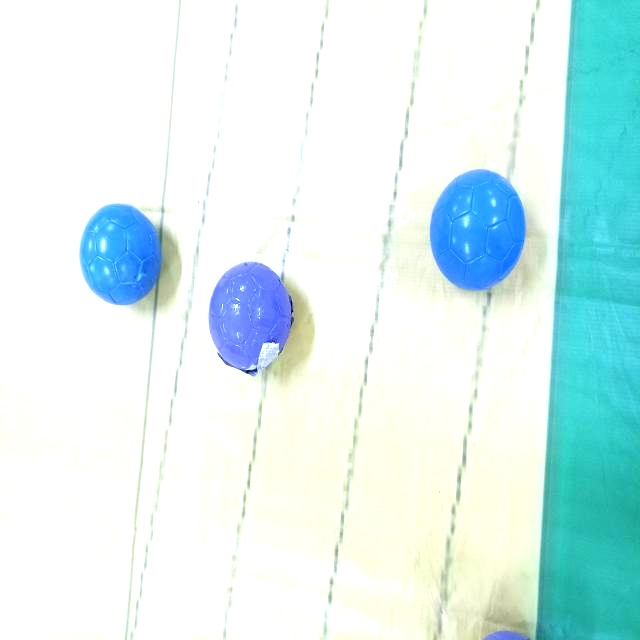blue_ball: (429, 164, 527, 290), (80, 201, 162, 309)
purple_ball: (206, 257, 298, 379)
